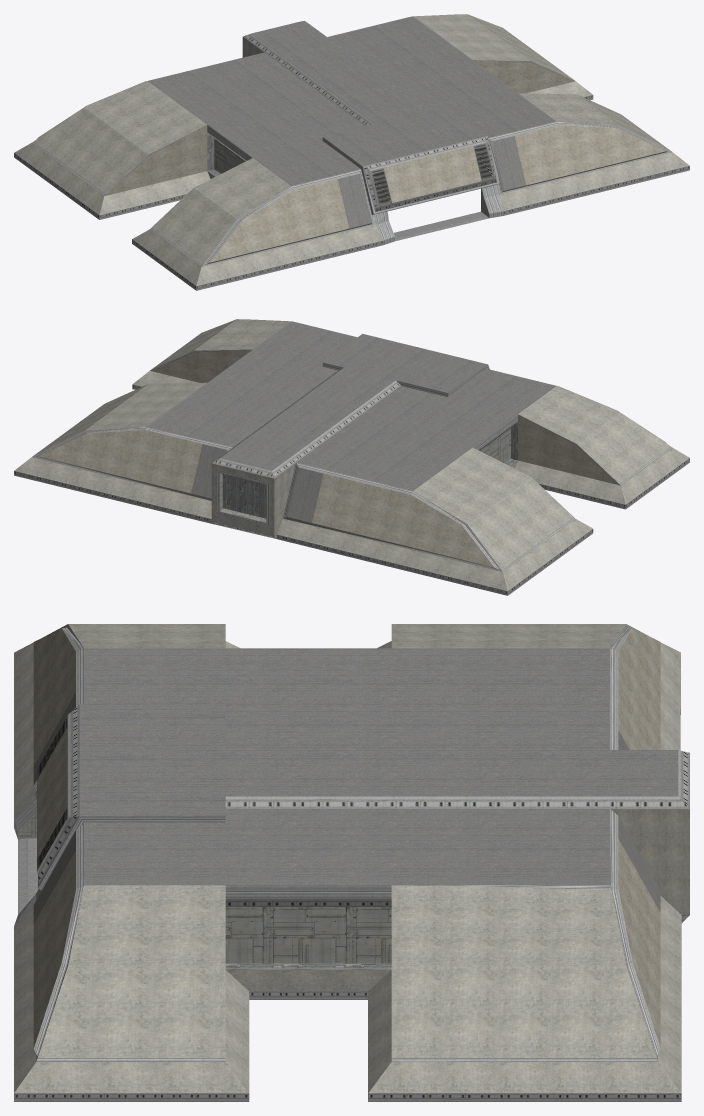
Rendered from mun_all_cloning_s01_r0_mesh_l1.fbx.
The picture shows the model from 3 angles, top to bottom: view 1: azimuth 30°, elevation 25°; view 2: azimuth 150°, elevation 25°; view 3: azimuth 270°, elevation 25°; orthographic projection. The views are drawn at different scales.
Visible parts, largest first — view 1: mesh_node; view 2: mesh_node; view 3: mesh_node.
Part boxes in pixels (x1,y1,x2,y2): mesh_node: [14, 14, 689, 290]; mesh_node: [14, 319, 689, 595]; mesh_node: [14, 624, 689, 1101].
Size of the model in its own units: 62.92 by 8.14 by 40.77.
